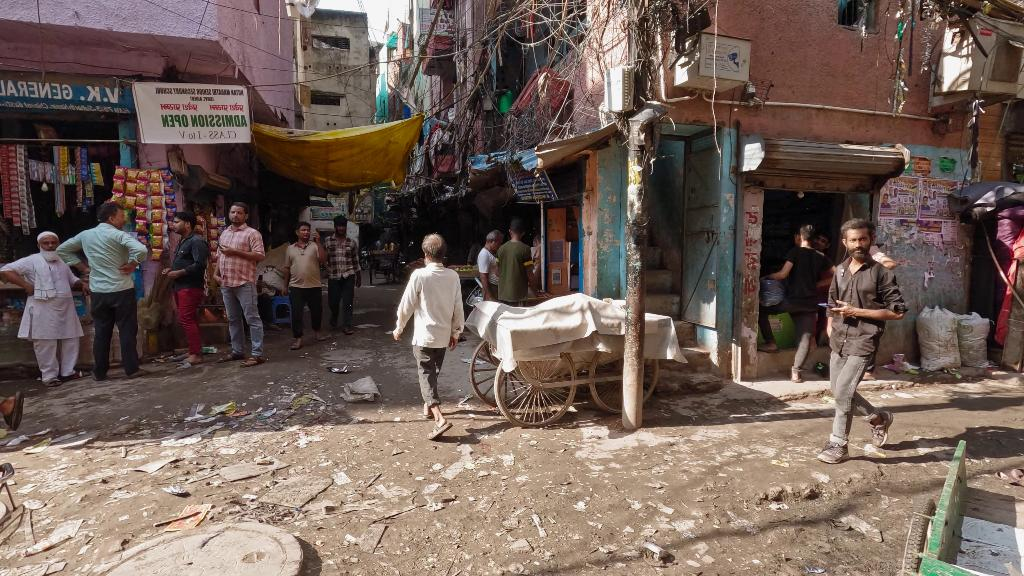dustbin: (209, 401, 236, 418)
garbage: (339, 376, 382, 403), (327, 365, 349, 373), (432, 462, 444, 471)
